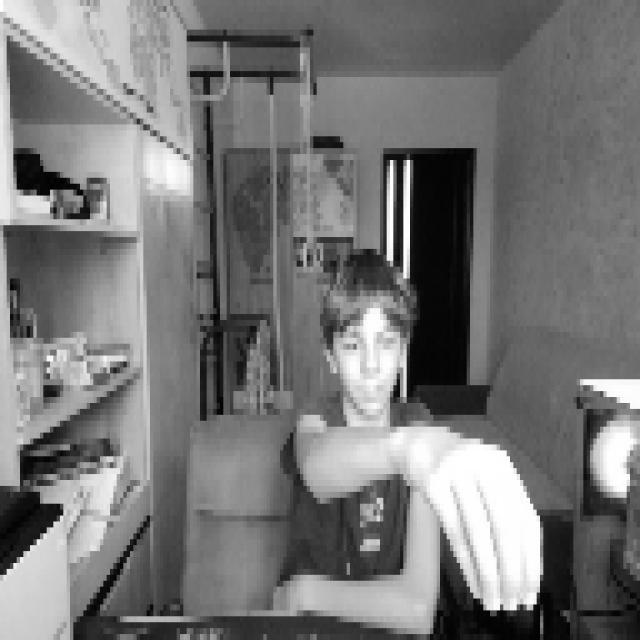left_click: (430, 438, 540, 610)
